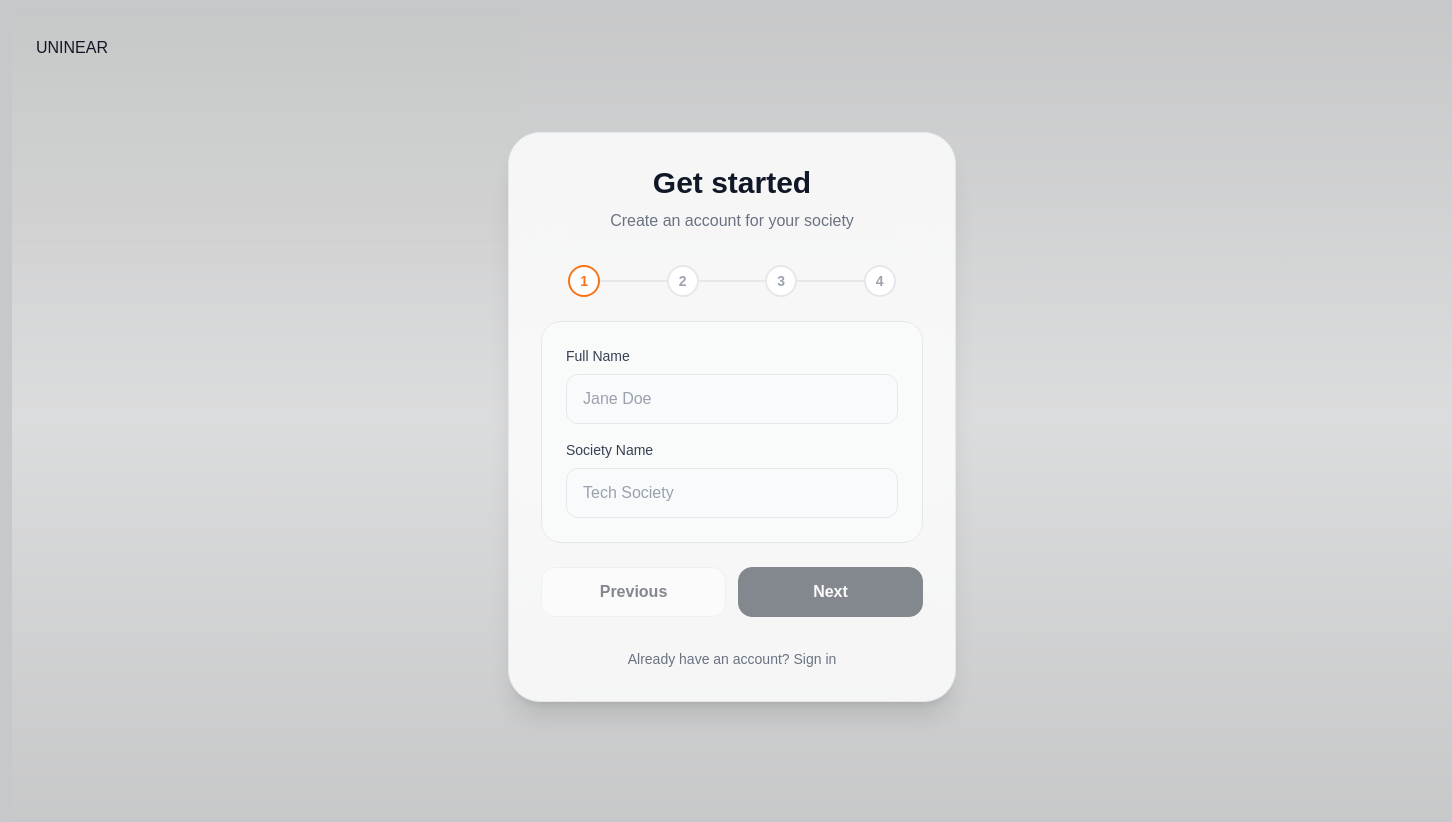
test_NFR07_bath_email_validation - Signup Page › AC2: Next button enabled after valid bath email
In the field labelled "Full Name": {"x": 732, "y": 399} [566, 374, 898, 424], type "Test User"
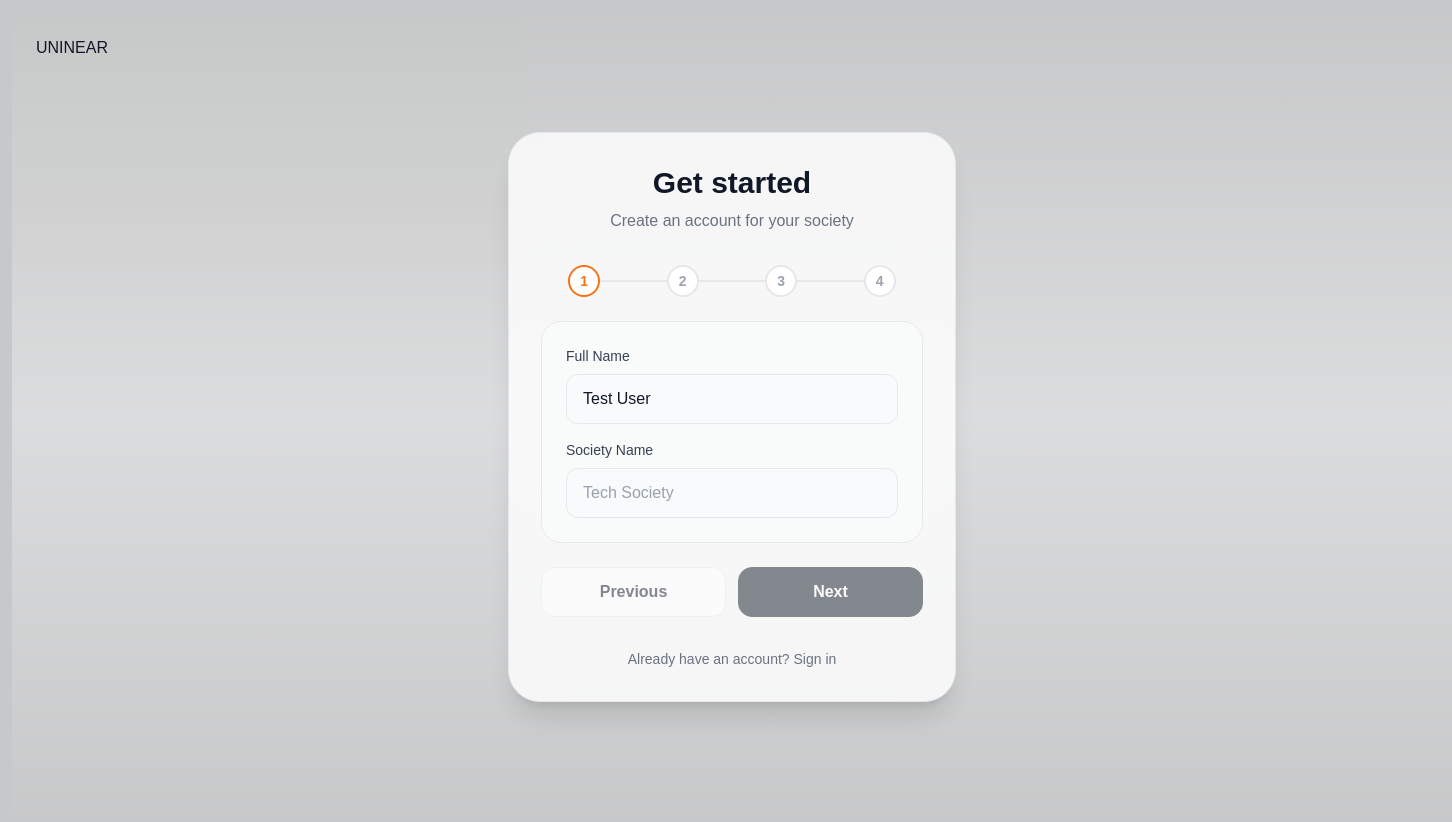
In the field labelled "Society Name": {"x": 732, "y": 493} [566, 468, 898, 518], type "Test Society"
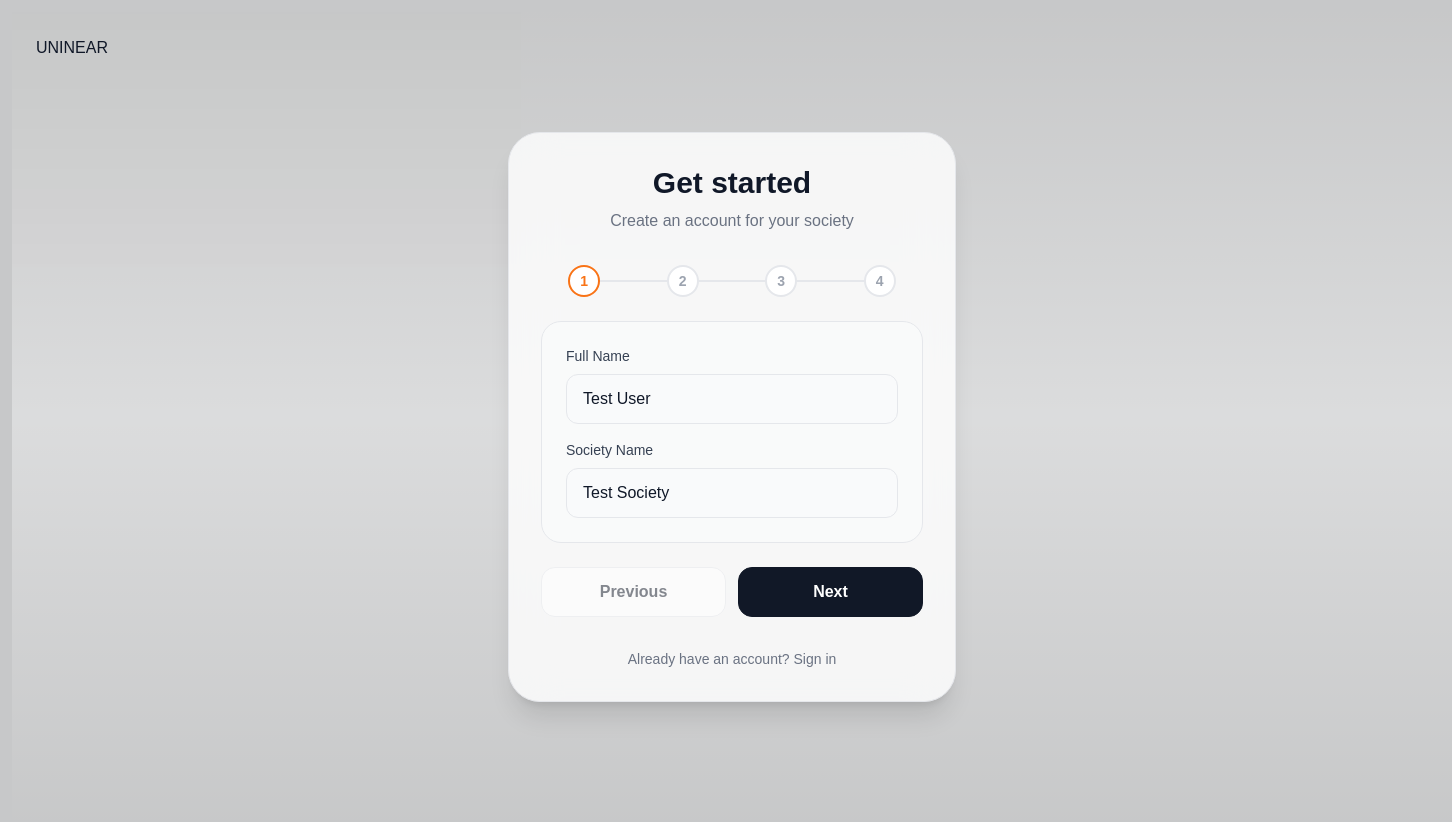
Click the button "Next": {"x": 830, "y": 592} [738, 567, 923, 617]
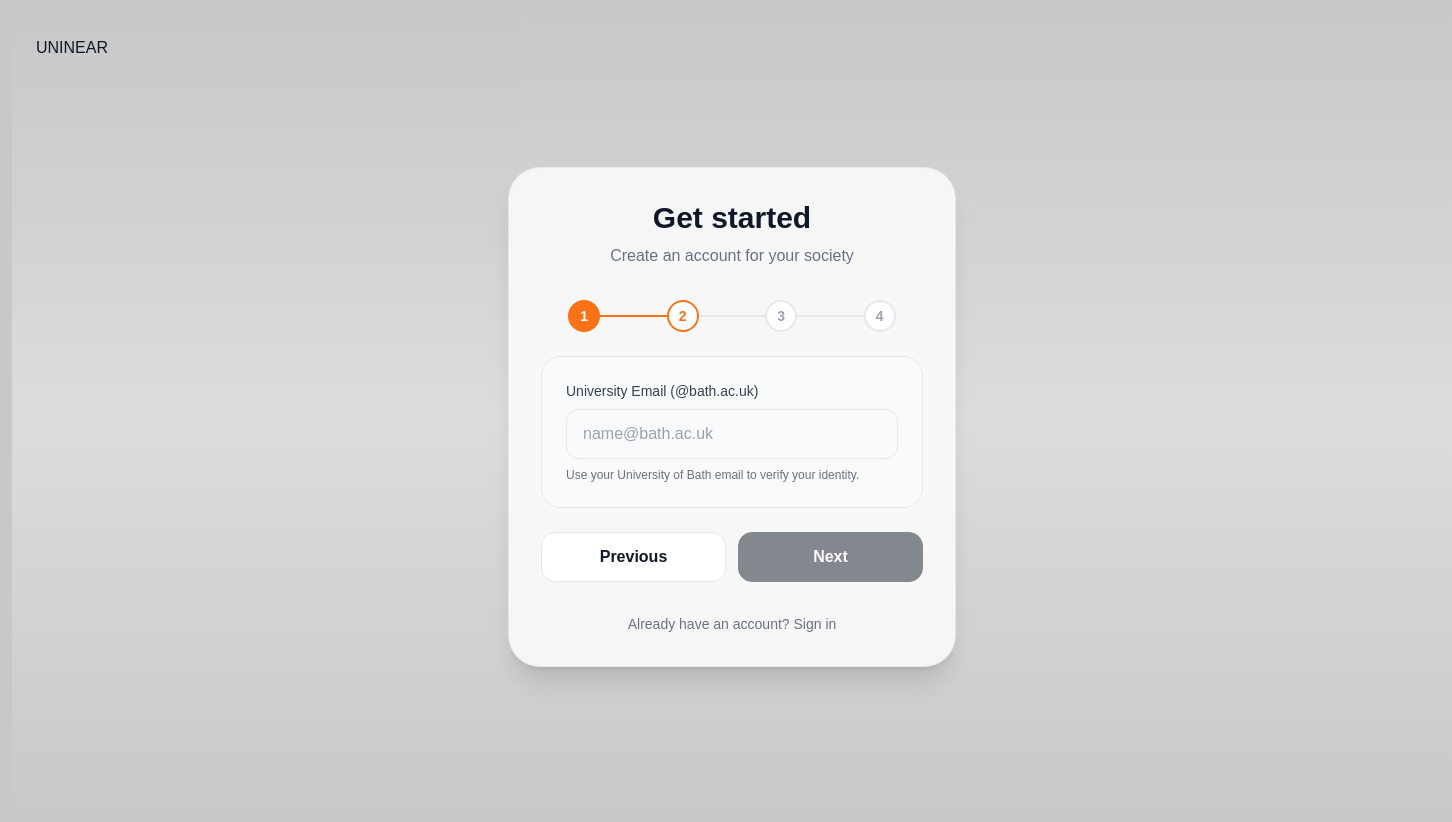
In the field labelled "University Email (@bath.ac.uk)": {"x": 732, "y": 434} [566, 409, 898, 459], type "ab1234@bath.ac.uk"
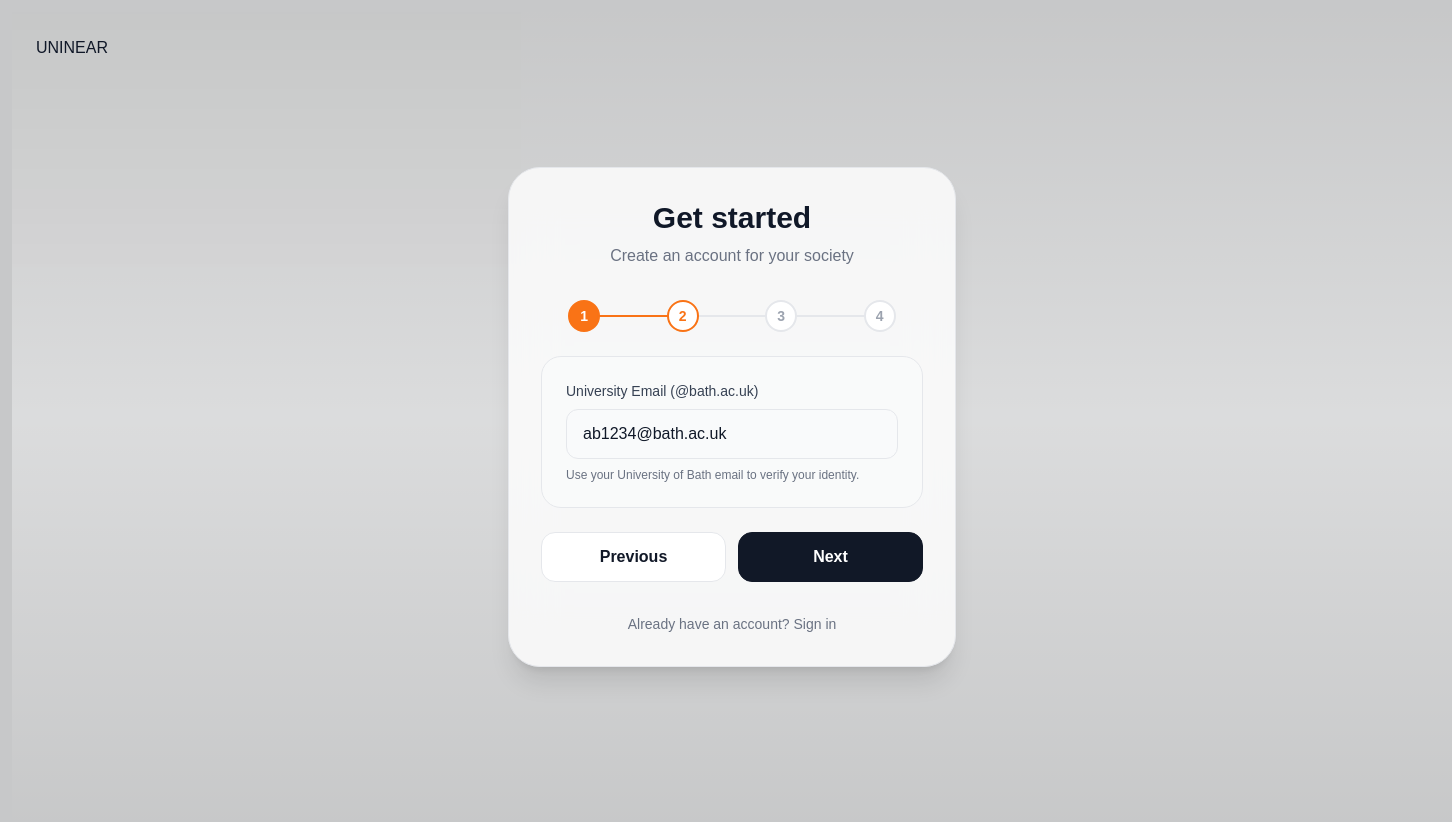
Expected: the button "Next" is enabled, [738, 532, 923, 582]
